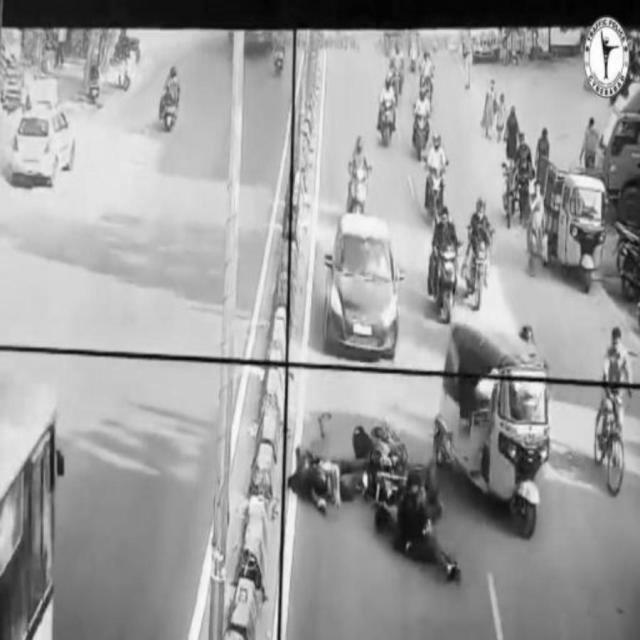accident: (298, 408, 456, 583)
vehicle: (443, 313, 551, 531), (332, 211, 396, 355), (543, 160, 601, 290), (591, 328, 632, 493), (14, 110, 74, 180), (430, 204, 460, 322), (469, 197, 495, 308), (422, 135, 450, 236), (345, 143, 370, 219), (409, 88, 433, 155), (380, 74, 397, 147), (163, 61, 178, 134), (274, 37, 284, 71)
